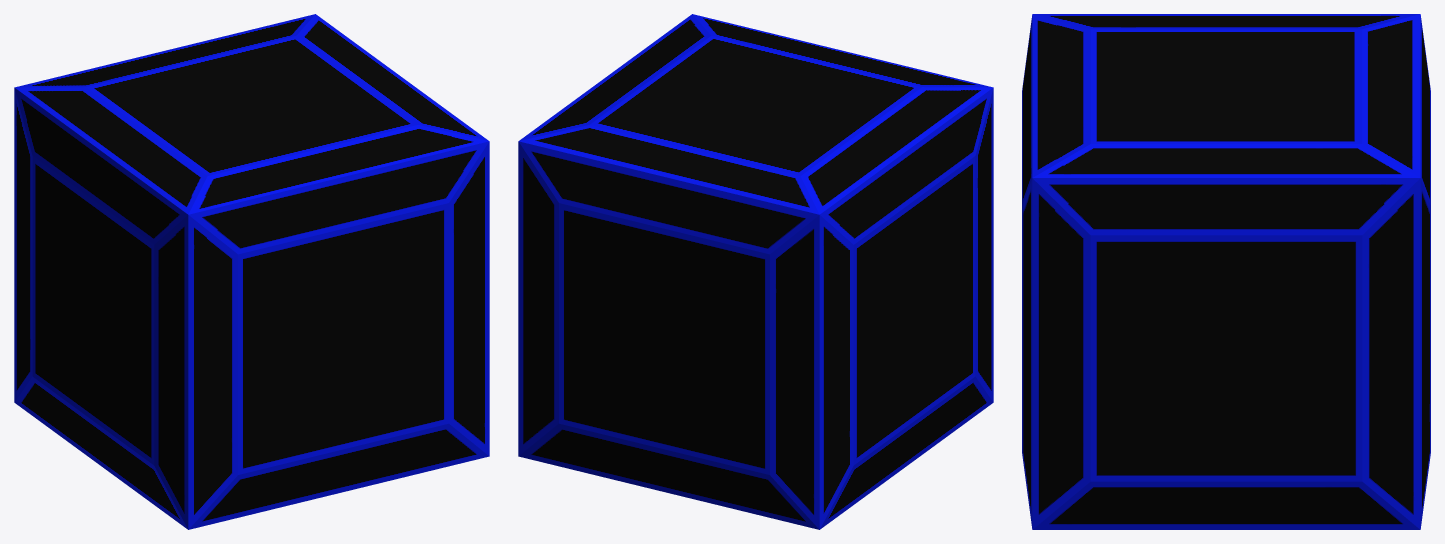
File: rammer.FBX
3 views of the same model, side by side, from view 1: azimuth 30°, elevation 25°; view 2: azimuth 150°, elevation 25°; view 3: azimuth 270°, elevation 25° (orthographic). The views are drawn at different scales.
Parts seen in each view (by area): view 1: Box001; view 2: Box001; view 3: Box001.
Part boxes in pixels (x1=…): Box001: x1=14, y1=14, x2=489, y2=529; Box001: x1=518, y1=14, x2=993, y2=529; Box001: x1=1022, y1=14, x2=1430, y2=529.
Size of the model in its own units: 63.2 by 63.2 by 63.2.
Materials: 1 (1 with a texture image).
